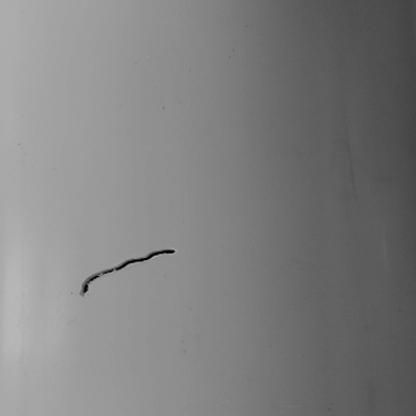fengxi: (80, 249, 176, 297)
